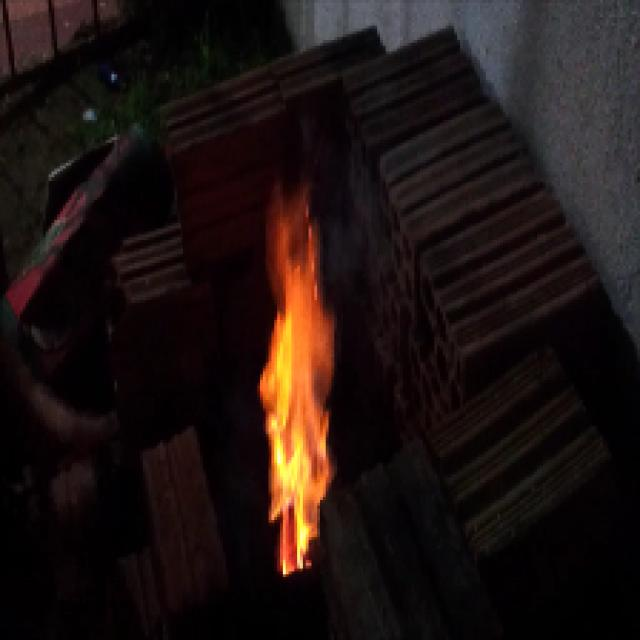fire: (255, 189, 336, 574)
